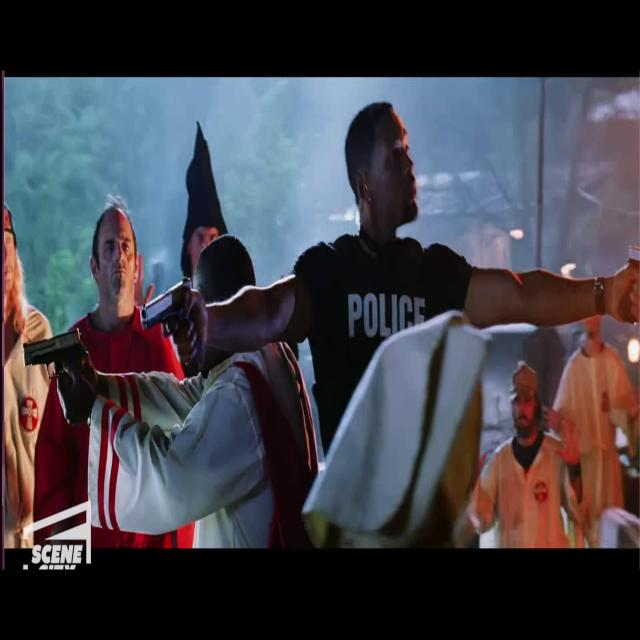weapons: (128, 264, 216, 392), (14, 313, 109, 422)
